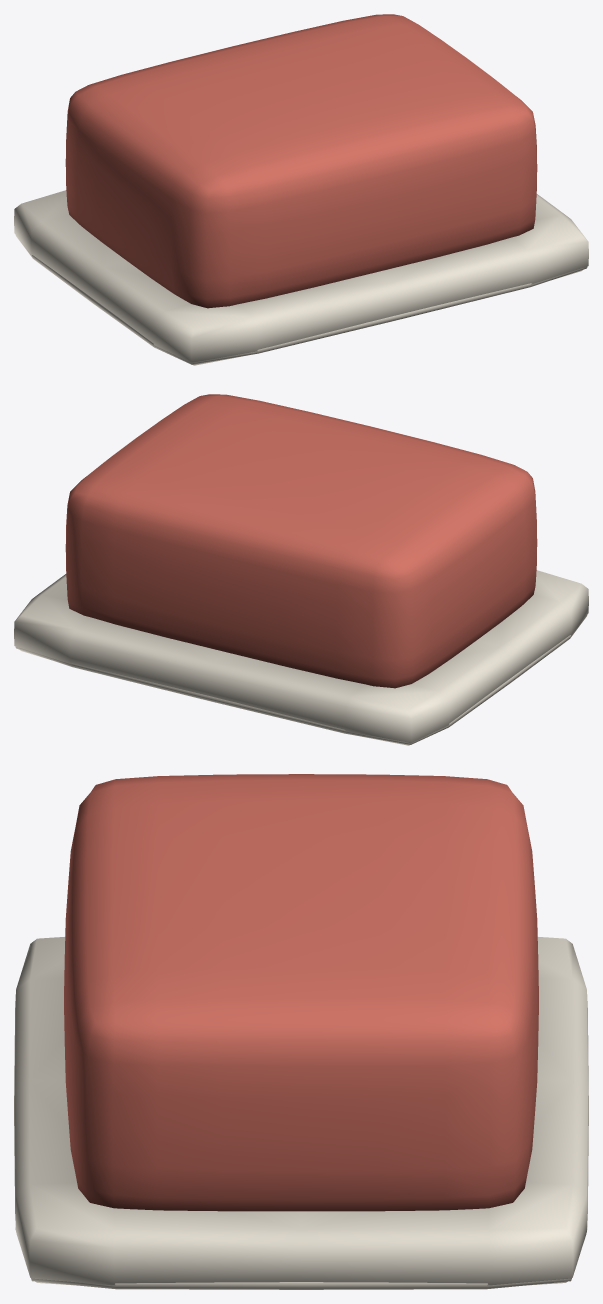
File: food_tofu.glb
The picture shows the model from 3 angles, top to bottom: view 1: azimuth 30°, elevation 25°; view 2: azimuth 150°, elevation 25°; view 3: azimuth 270°, elevation 25°; orthographic projection. The views are drawn at different scales.
Parts seen in each view (by area): view 1: PART; view 2: PART; view 3: PART.
Part boxes in pixels (x1,y1,x2,y2): PART: (14, 14, 588, 365); PART: (14, 394, 588, 745); PART: (14, 774, 588, 1289).
Size of the model in its own units: 0.1158 by 0.0455 by 0.0898.
